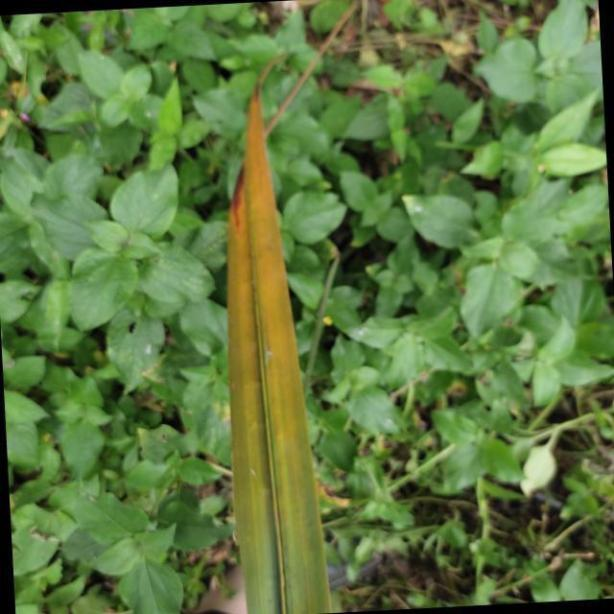Megnesium: (223, 31, 331, 614)
